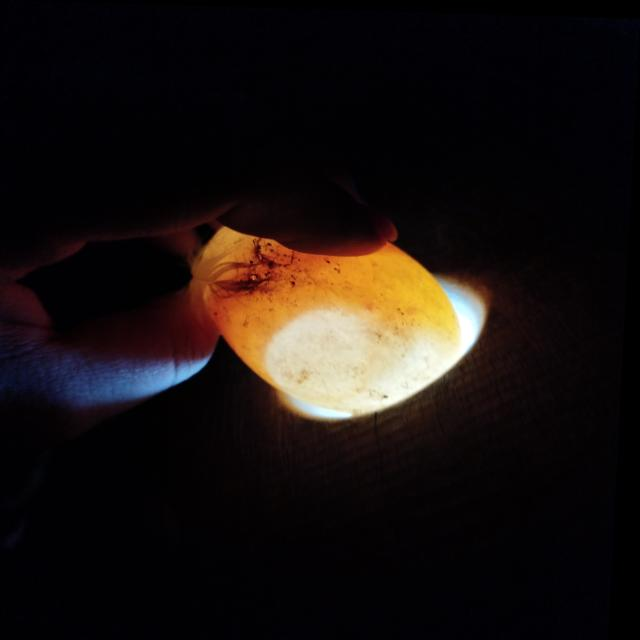Camara de Ar: (270, 304, 458, 409)
Gema Quebrada: (207, 242, 342, 334)
